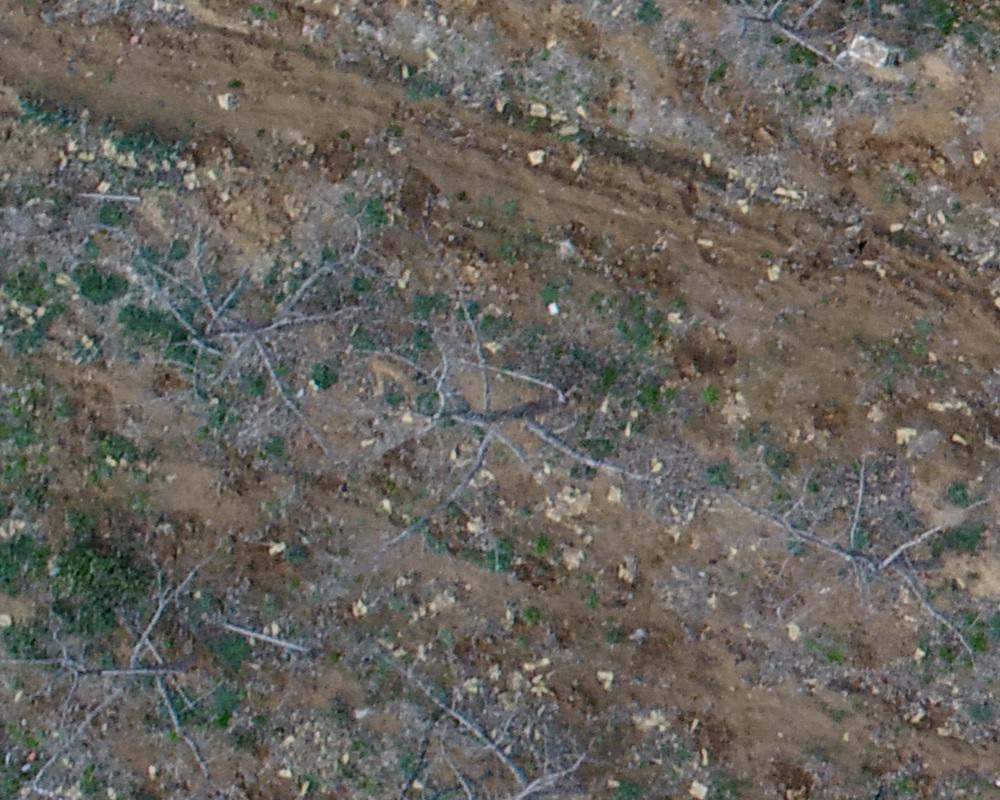apple: (362, 219, 635, 563), (112, 204, 369, 446), (734, 456, 990, 663), (33, 570, 235, 784), (356, 641, 601, 790), (668, 10, 897, 96)
